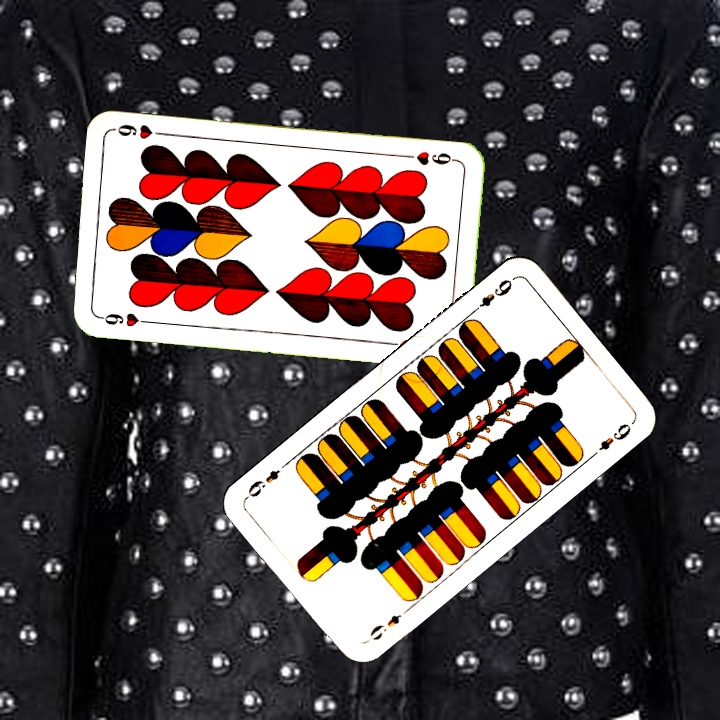E9: (467, 275, 515, 317), (365, 610, 404, 643)
H9: (95, 308, 154, 330), (400, 147, 460, 168)
